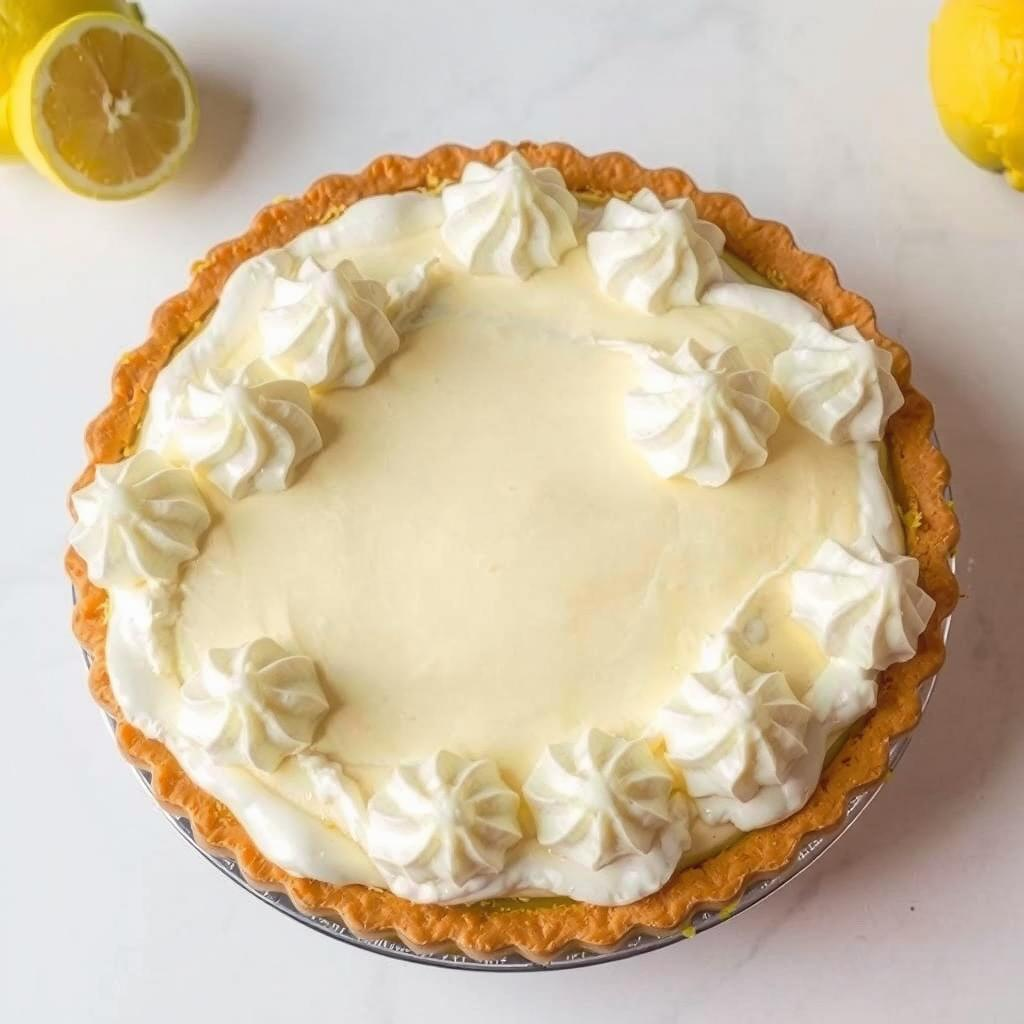cake: (57, 137, 971, 977)
